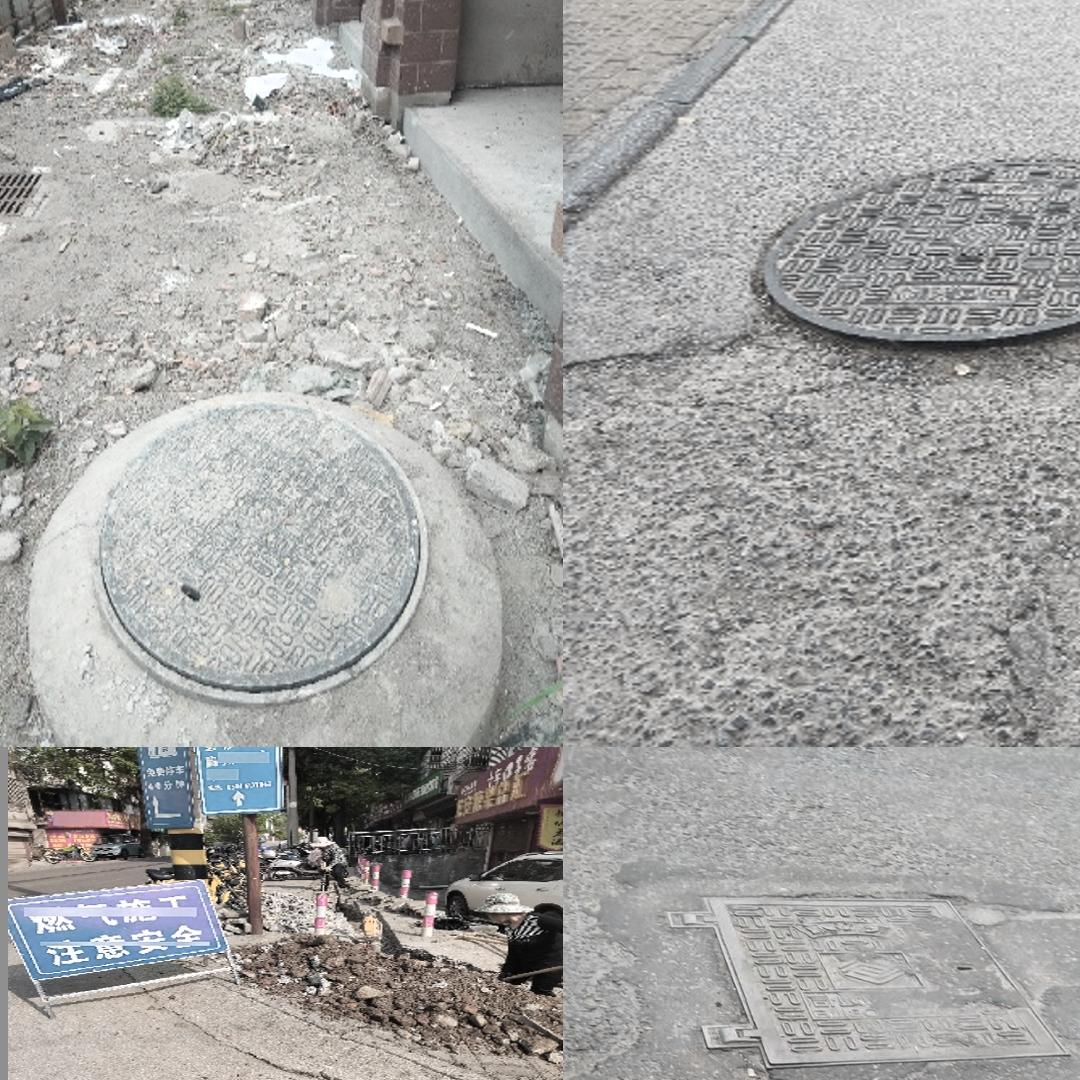good: (92, 403, 428, 703), (664, 899, 1066, 1068), (741, 158, 1080, 344)
